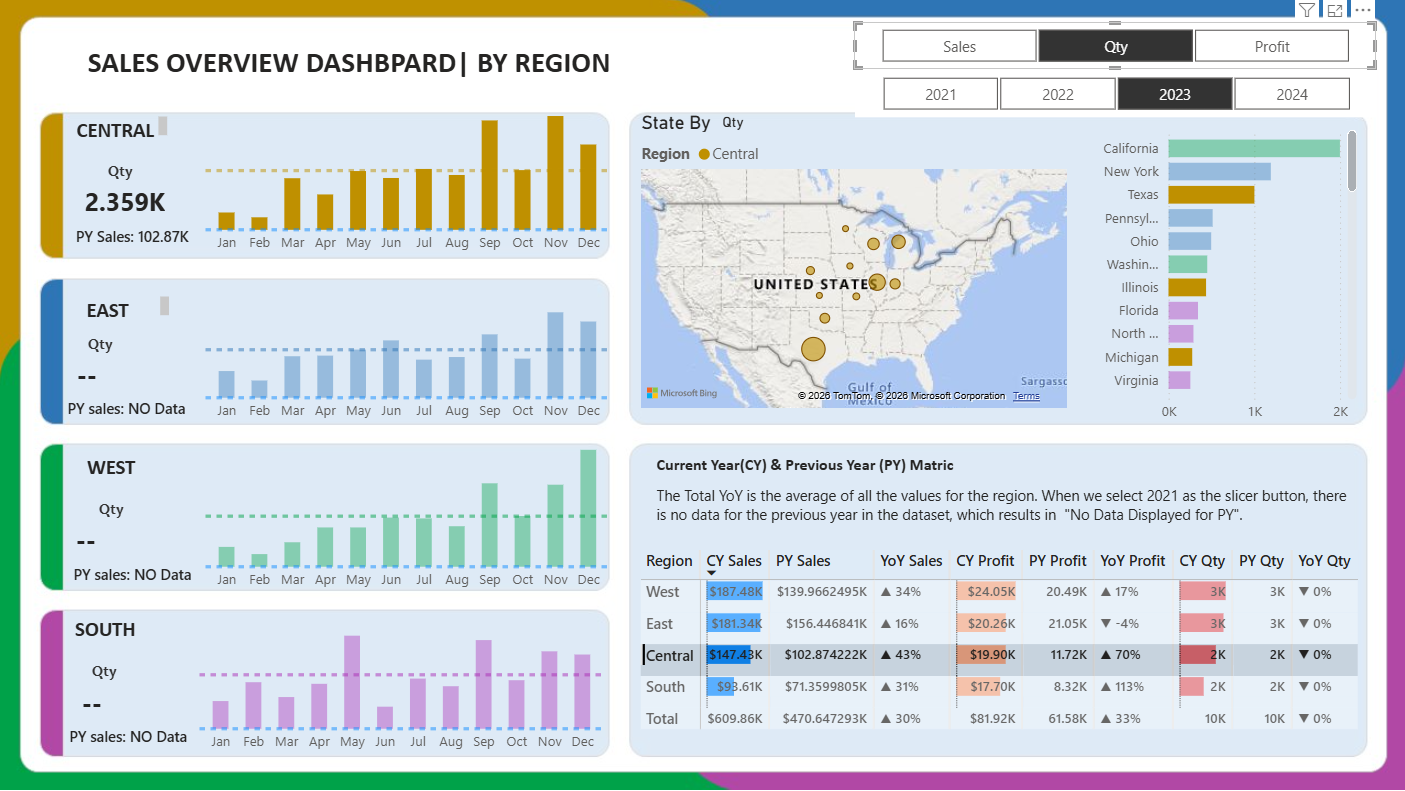

The dashboard page shown, as its layout file describes it:
{"tool":"powerbi","page":{"name":"Sales ODBR","canvas":[1280,720],"ordinal":0},"visuals":[{"type":"textbox","box":[61.2,101.1,96.7,29.3],"z":0},{"type":"slicer","fields":{"Values":["Calendar Table.Year"]},"box":[778.1,63.2,473.7,42.8],"z":1000},{"type":"slicer","fields":{"Values":["Select Matric.Select Matric"]},"box":[777.6,20.4,474.4,42.6],"z":2000},{"type":"cardVisual","fields":{"Data":["Sales Data.Total Sales"]},"box":[61.2,142.8,134.8,67.4],"z":3000},{"type":"card","fields":{"Values":["Sales Data.Dynamic Title"]},"box":[61.2,142.8,98.4,25.7],"z":4000},{"type":"card","fields":{"Values":["Sales Data.PY KPI Sales"]},"box":[54.1,203.9,134.8,26.6],"z":5000},{"type":"clusteredColumnChart","fields":{"Y":["Sales Data.Total Sales"],"Category":["Calendar Table.Month"]},"box":[182.7,85.1,377.7,153.4],"z":6000},{"type":"textbox","box":[54.1,35.5,529.4,65.6],"z":7000},{"type":"textbox","box":[44.3,264.2,115.3,29.3],"z":8000},{"type":"cardVisual","fields":{"Data":["Sales Data.Total Sales"]},"box":[54.1,299.7,134.8,67.4],"z":9000},{"type":"card","fields":{"Values":["Sales Data.Dynamic Title"]},"box":[42.6,299.7,98.4,25.7],"z":10000},{"type":"card","fields":{"Values":["Sales Data.PY KPI Sales"]},"box":[42.6,360,146.3,26.6],"z":11000},{"type":"clusteredColumnChart","fields":{"Y":["Sales Data.Total Sales"],"Category":["Calendar Table.Month"]},"box":[182.7,238.5,377.7,153.4],"z":12000},{"type":"textbox","box":[48.1,421.3,115.3,29.3],"z":13000},{"type":"cardVisual","fields":{"Data":["Sales Data.Total Sales"]},"box":[52.3,450.4,134.8,67.4],"z":14000},{"type":"card","fields":{"Values":["Sales Data.Dynamic Title"]},"box":[52.3,450.4,98.4,25.7],"z":15000},{"type":"card","fields":{"Values":["Sales Data.PY KPI Sales"]},"box":[47.9,510.7,146.3,26.6],"z":16000},{"type":"clusteredColumnChart","fields":{"Y":["Sales Data.Total Sales"],"Category":["Calendar Table.Month"]},"box":[182.7,391.9,377.7,153.4],"z":17000},{"type":"textbox","box":[54.1,407.9,96.7,42.6],"z":18000},{"type":"cardVisual","fields":{"Data":["Sales Data.Total Sales"]},"box":[58.4,598.2,135.2,67.1],"z":19000},{"type":"card","fields":{"Values":["Sales Data.Dynamic Title"]},"box":[46.8,597.6,98.4,25.7],"z":20000},{"type":"card","fields":{"Values":["Sales Data.PY KPI Sales"]},"box":[44.7,658.5,145.9,27.2],"z":21000},{"type":"clusteredColumnChart","fields":{"Y":["Sales Data.Total Sales"],"Category":["Calendar Table.Month"]},"box":[177.1,539.1,377.7,153.4],"z":22000},{"type":"textbox","box":[48.5,555,96.7,42.6],"z":23000},{"type":"map","title":"State By","fields":{"Size":["Sales Data.Total Sales"],"Category":["Sales Data.State/Province"],"Series":["Sales Data.Region"]},"box":[579,101.1,397.2,275.8],"z":24000},{"type":"card","fields":{"Values":["Sales Data.DY_map"]},"box":[583.4,69.2,167.6,86.9],"z":25000},{"type":"barChart","fields":{"Y":["Sales Data.Total Sales"],"Category":["Sales Data.State/Province"],"Series":["Sales Data.Region"]},"box":[986.9,105.5,251.8,286.4],"z":26000},{"type":"pivotTable","fields":{"Rows":["Sales Data.Region"],"Values":["Sales Data.CY Sales","Sales Data.PY Sales","Sales Data.YoY Sales","Sales Data.CY Profit","Sales Data.PY Profit","Sales Data.YoY Profit","Sales Data.CY Qty","Sales Data.PY Qty","Sales Data.YoY Qty"]},"box":[578.1,494.8,673.9,191.5],"z":27000},{"type":"textbox","box":[592.7,408.2,434.5,28.2],"z":30000},{"type":"textbox","box":[592.7,436.4,646.4,48.2],"z":30001}]}

Visuals, with their boxes in screenshot pixels (x1, y1, x2, y2), scaled from the page's 1280x720 canvas onto the 1405x791 screenshot:
textbox: 67 111 173 143
slicer - Calendar Table.Year: 854 69 1374 116
slicer - Select Matric.Select Matric: 854 22 1374 69
cardVisual - Sales Data.Total Sales: 67 157 215 231
card - Sales Data.Dynamic Title: 67 157 175 185
card - Sales Data.PY KPI Sales: 59 224 207 253
clusteredColumnChart - Sales Data.Total Sales x Calendar Table.Month: 201 93 615 262
textbox: 59 39 640 111
textbox: 49 290 175 322
cardVisual - Sales Data.Total Sales: 59 329 207 403
card - Sales Data.Dynamic Title: 47 329 155 357
card - Sales Data.PY KPI Sales: 47 396 207 425
clusteredColumnChart - Sales Data.Total Sales x Calendar Table.Month: 201 262 615 431
textbox: 53 463 179 495
cardVisual - Sales Data.Total Sales: 57 495 205 569
card - Sales Data.Dynamic Title: 57 495 165 523
card - Sales Data.PY KPI Sales: 53 561 213 590
clusteredColumnChart - Sales Data.Total Sales x Calendar Table.Month: 201 431 615 599
textbox: 59 448 166 495
cardVisual - Sales Data.Total Sales: 64 657 213 731
card - Sales Data.Dynamic Title: 51 657 159 685
card - Sales Data.PY KPI Sales: 49 723 209 753
clusteredColumnChart - Sales Data.Total Sales x Calendar Table.Month: 194 592 609 761
textbox: 53 610 159 657
"State By" map: 636 111 1072 414
card - Sales Data.DY_map: 640 76 824 171
barChart - Sales Data.Total Sales x Sales Data.State/Province: 1083 116 1360 431
pivotTable - Sales Data.Region x Sales Data.CY Sales: 635 544 1374 754
textbox: 651 448 1128 479
textbox: 651 479 1360 532
